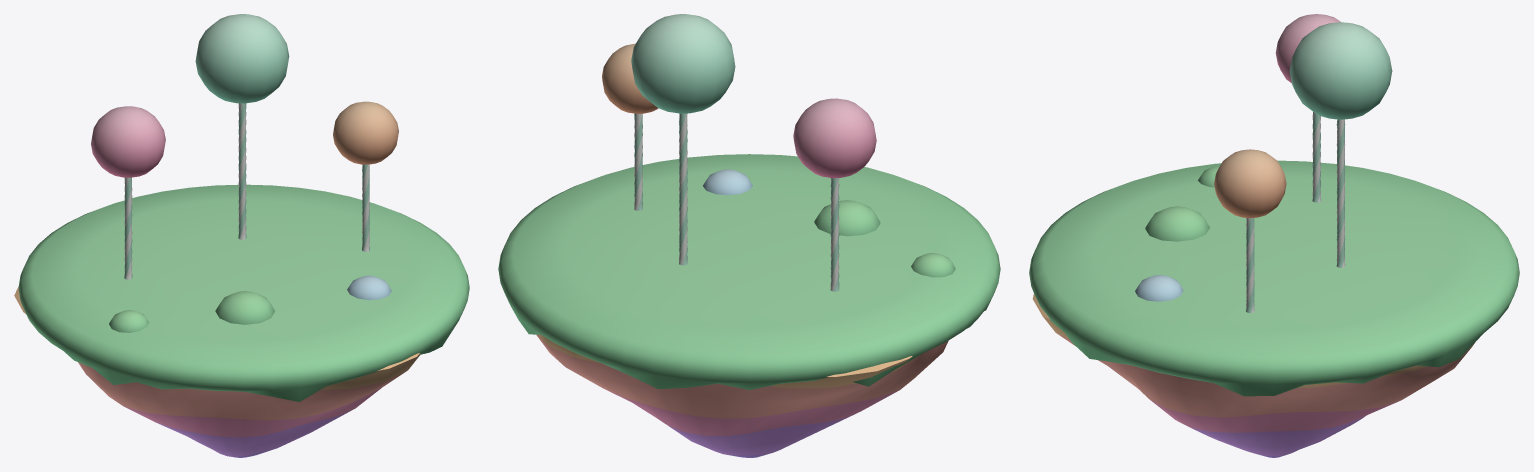
The model's file is island.glb.
3 renders of one model, left to right at view 1: azimuth 30°, elevation 25°; view 2: azimuth 150°, elevation 25°; view 3: azimuth 270°, elevation 25°, orthographic. The views are drawn at different scales.
Visible parts, largest first — view 1: island; view 2: island; view 3: island.
Part boxes in pixels (x1,y1,x2,y2): island: [14, 14, 469, 457]; island: [498, 14, 1000, 457]; island: [1029, 14, 1519, 457].
Size of the model in its own units: 8.12 by 8.07 by 8.12.
